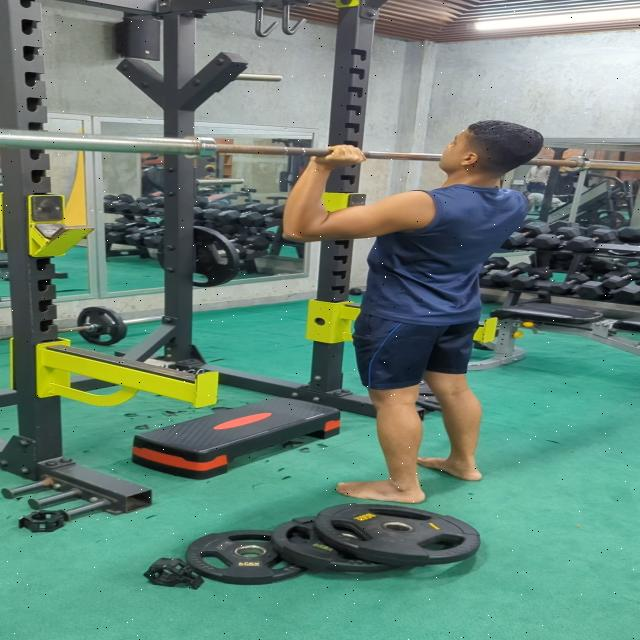Normal_OverheadPress: (273, 110, 548, 510)
